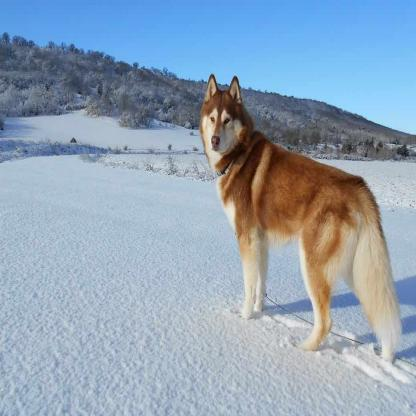husky: (197, 72, 400, 354)
